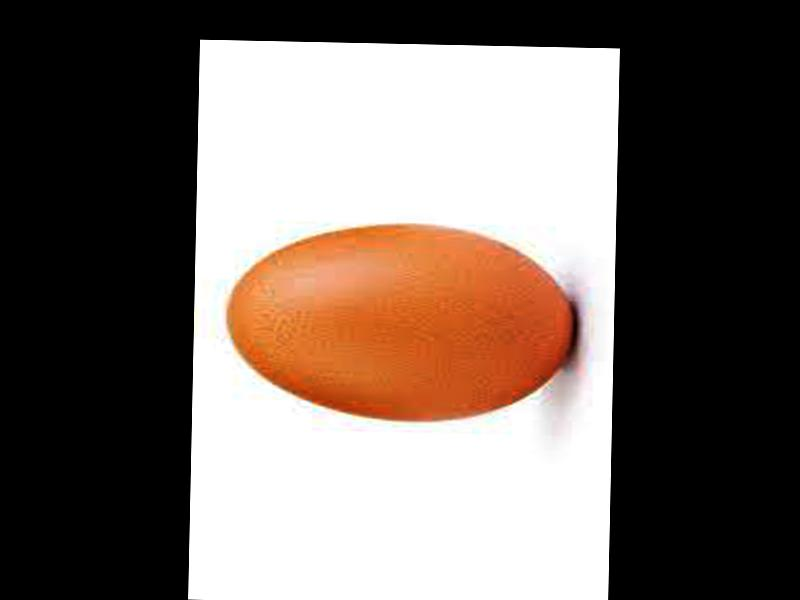Eggs: (224, 223, 576, 423)
